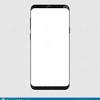Smartphone: (30, 4, 72, 91)
